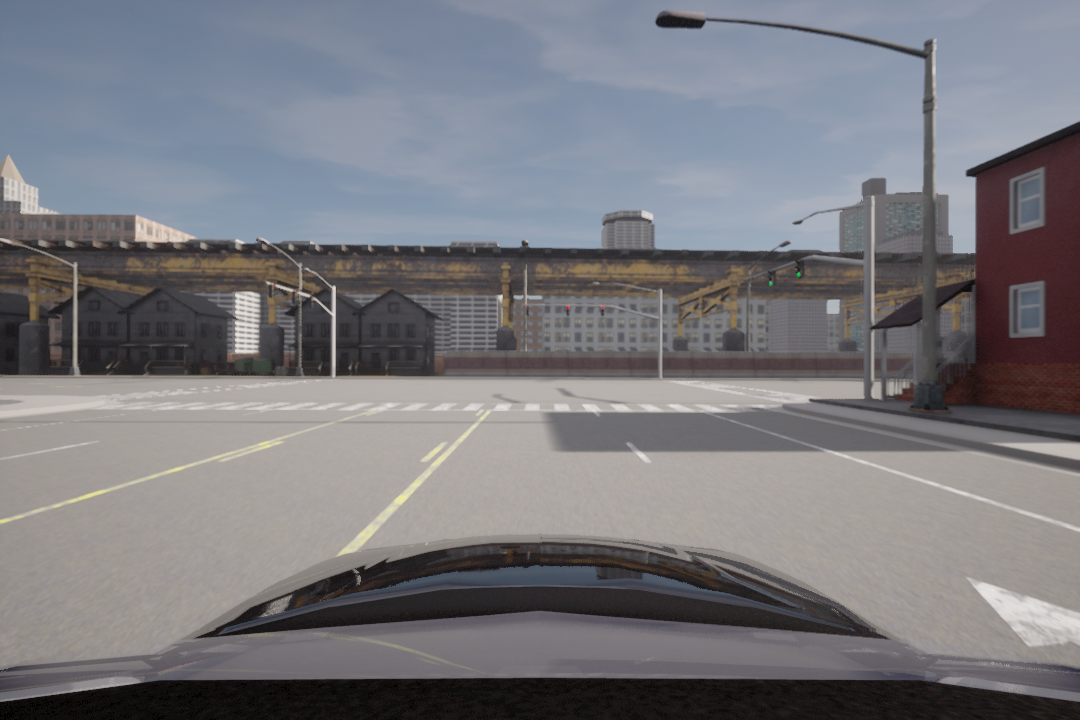walkside: (120, 398, 769, 419)
